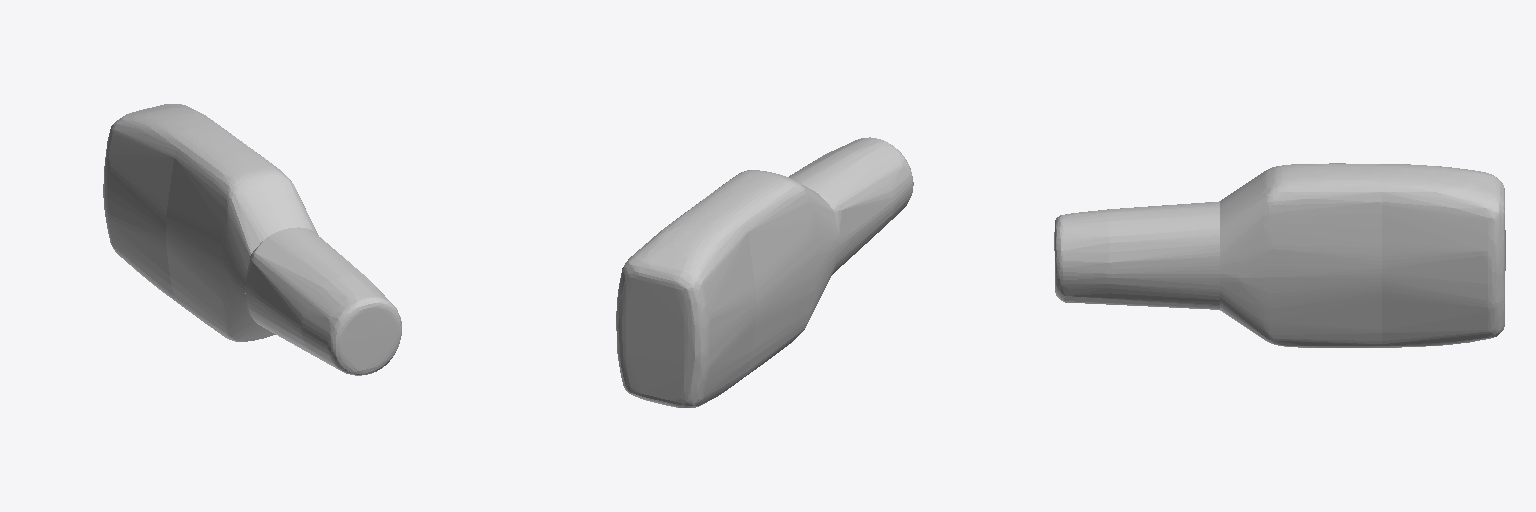
Rendered from coacd_collision.obj.
3 renders of one model, left to right at view 1: azimuth 30°, elevation 25°; view 2: azimuth 150°, elevation 25°; view 3: azimuth 270°, elevation 25°, orthographic.
Parts seen in each view (by area): view 1: geometry_1, geometry_0, geometry_2; view 2: geometry_2, geometry_1, geometry_0; view 3: geometry_1, geometry_2, geometry_0.
Part boxes in pixels (x1,y1,x2,y2): geometry_1: (166,131,318,341); geometry_0: (245,227,401,375); geometry_2: (103,104,230,301); geometry_2: (616,206,756,407); geometry_1: (692,170,838,376); geometry_0: (789,137,913,274); geometry_1: (1220,163,1381,347); geometry_2: (1382,164,1505,347); geometry_0: (1054,201,1219,309).
Bounding box in the file's own units: 45.46 × 81.58 × 196.